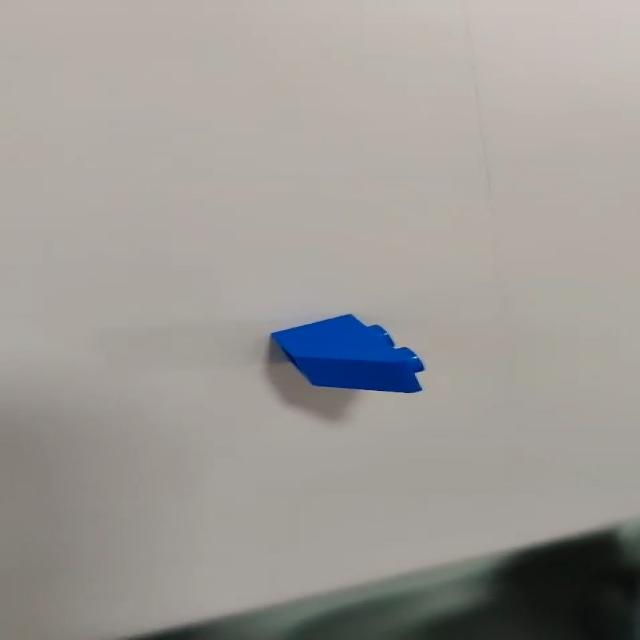X1x2x1: (261, 311, 433, 400)
